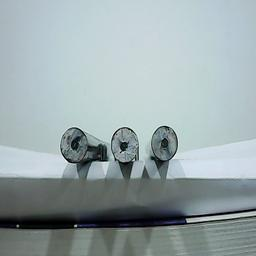pen: (110, 126, 139, 162), (150, 125, 179, 161), (59, 126, 87, 162)
